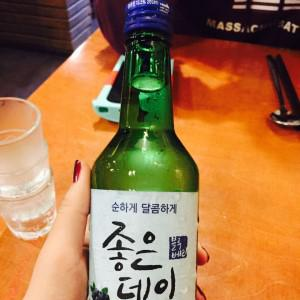soju: (87, 1, 199, 300)
